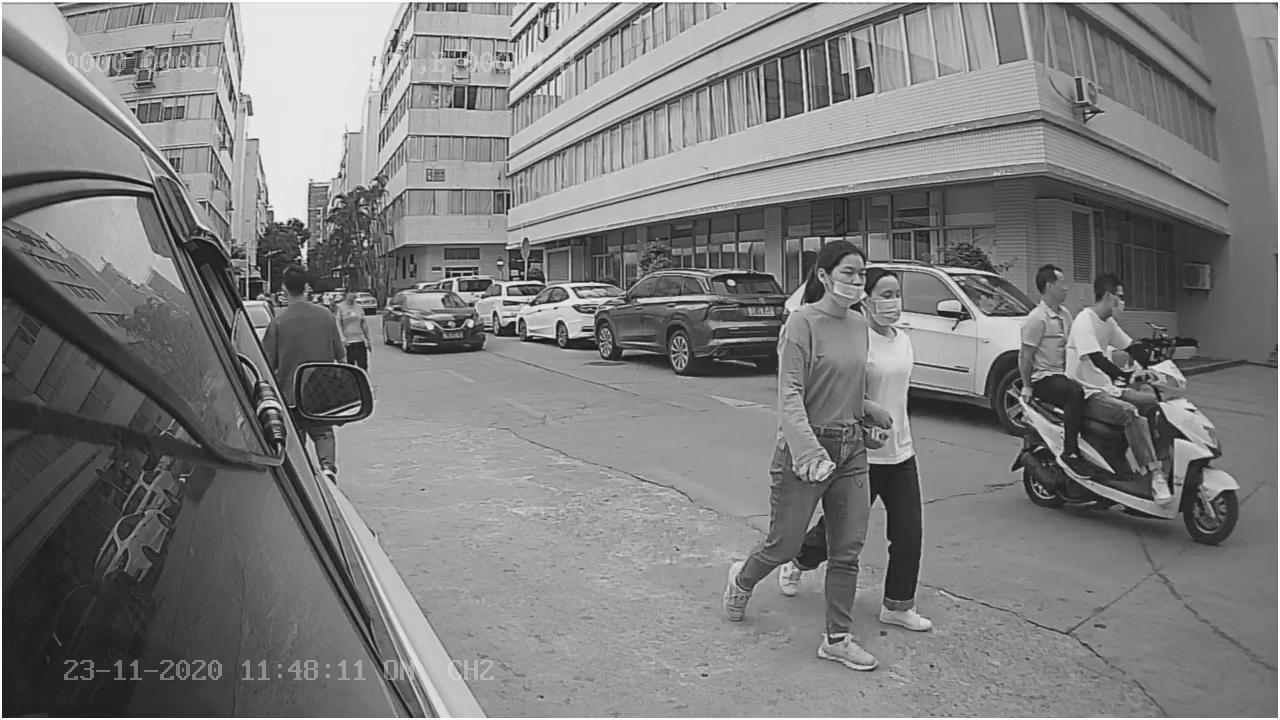person: (720, 226, 883, 670), (1067, 252, 1146, 390)
